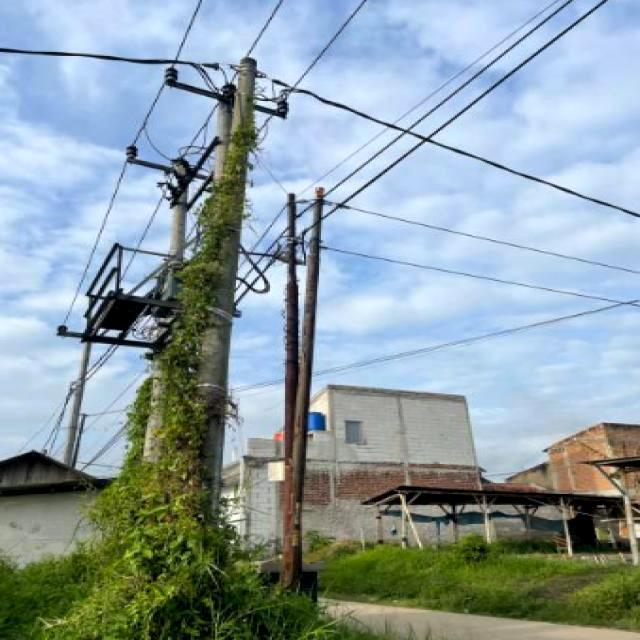light_pole: (123, 64, 272, 516)
